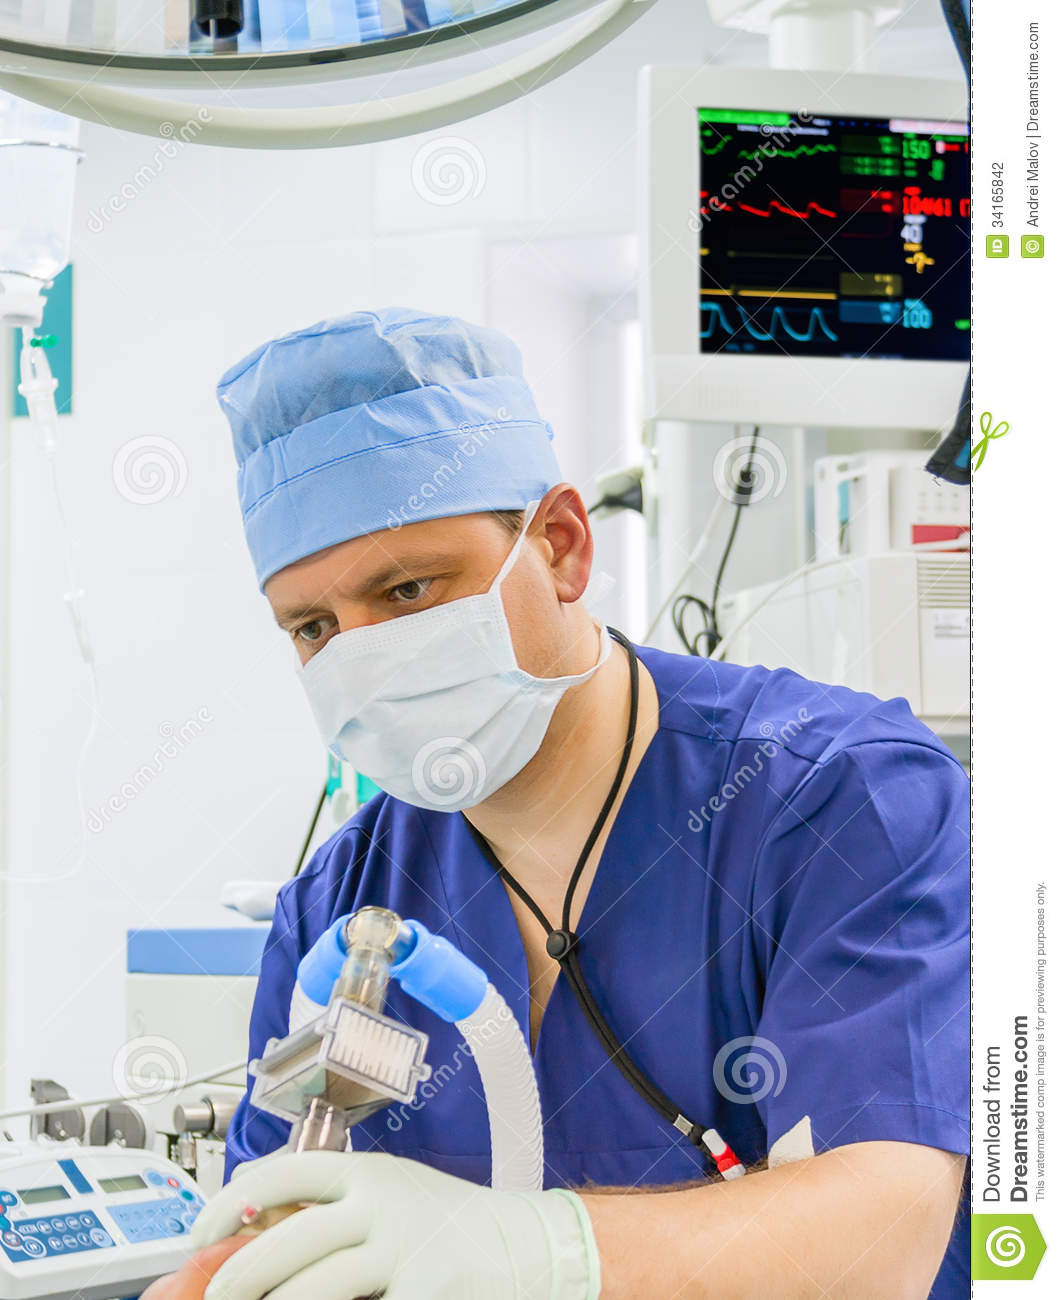mask: (290, 602, 554, 801)
